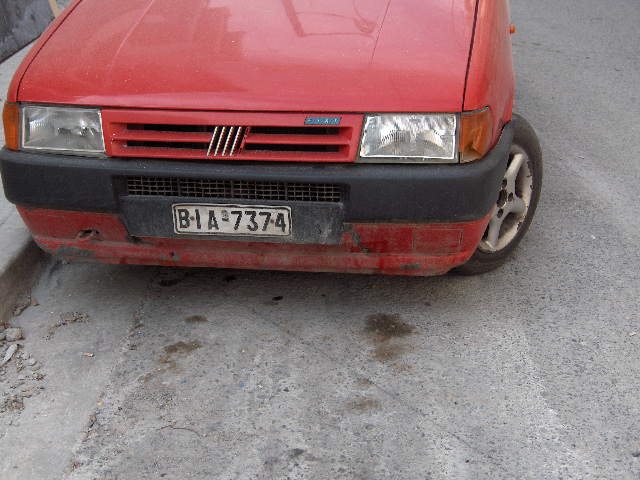licenseplate: (171, 202, 293, 238)
